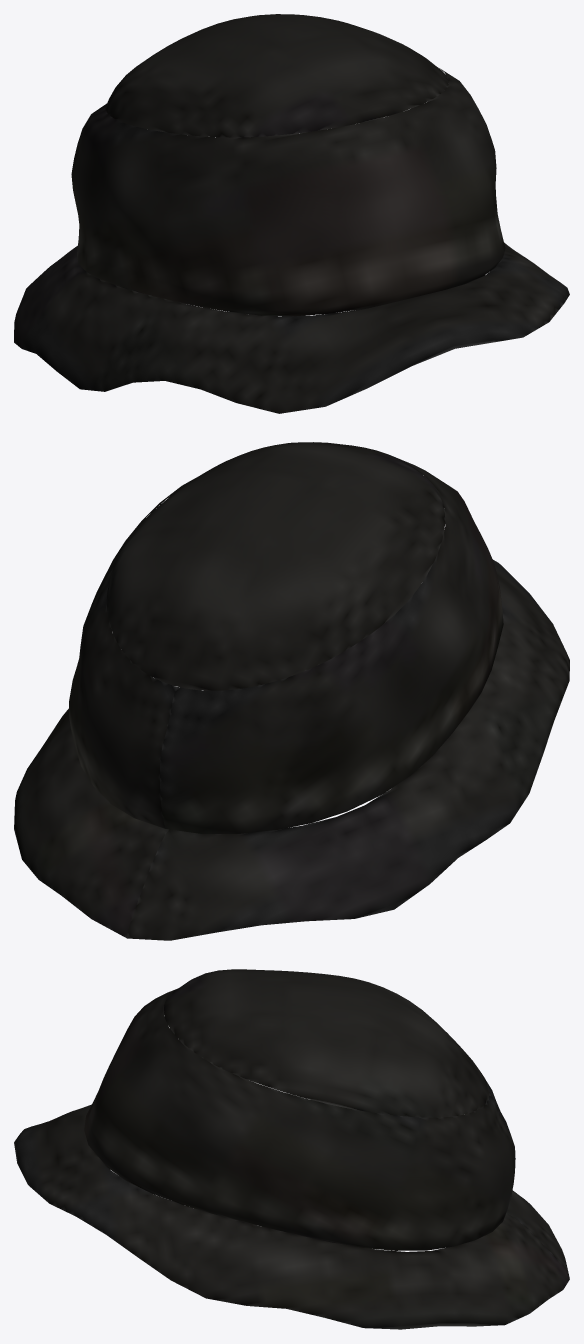
Rendered from outfit_bucket_hat.glb.
3 views of the same model, one above another, from view 1: azimuth 30°, elevation 25°; view 2: azimuth 150°, elevation 25°; view 3: azimuth 270°, elevation 25° (orthographic). The views are drawn at different scales.
Visible parts, largest first — view 1: outfit_bucket_hat; view 2: outfit_bucket_hat; view 3: outfit_bucket_hat.
Boxes of the visible parts, x1=… form: outfit_bucket_hat: x1=14, y1=14, x2=569, y2=413; outfit_bucket_hat: x1=14, y1=442, x2=569, y2=940; outfit_bucket_hat: x1=14, y1=969, x2=569, y2=1329.
Size of the model in its own units: 0.395 by 0.3 by 0.5232.
Materials: 1 (1 with a texture image).
